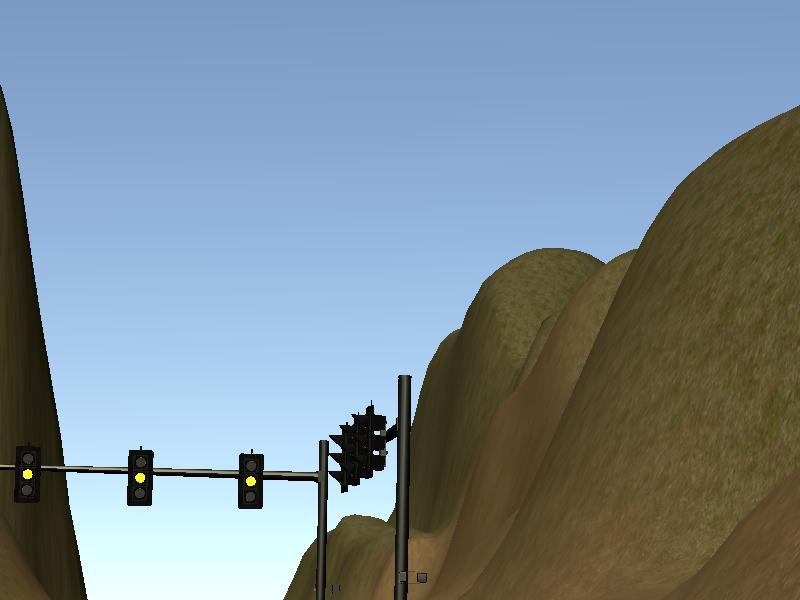yellow_light: (129, 449, 153, 503), (241, 456, 264, 508), (17, 448, 37, 502)
